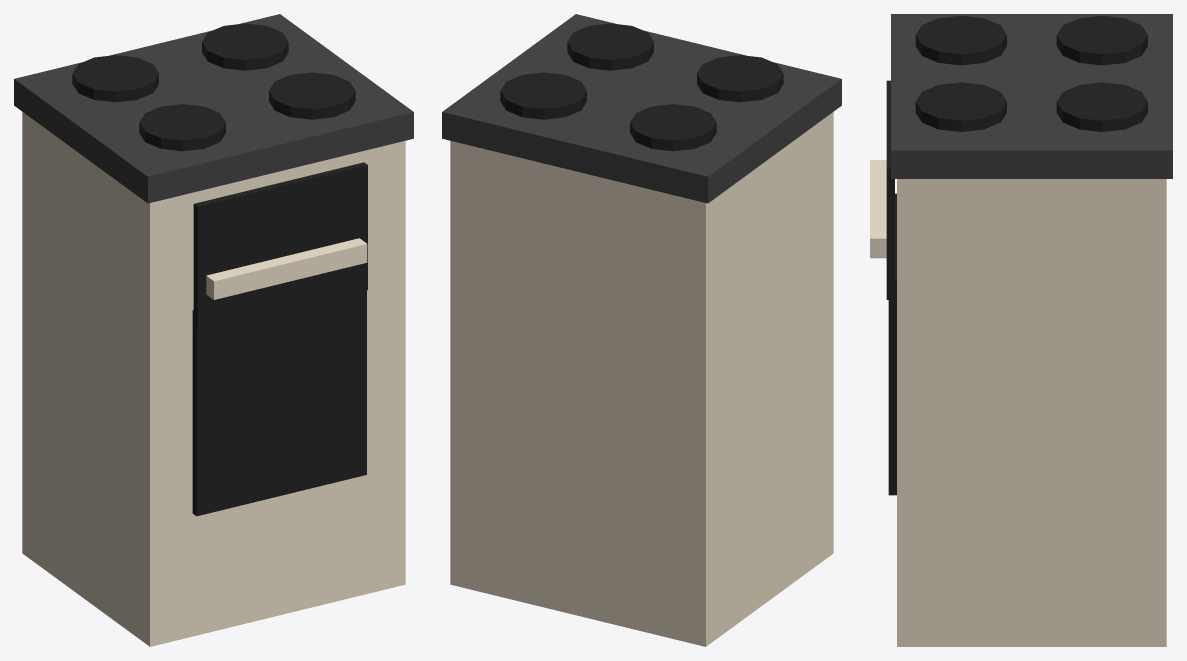
3 renders of one model, left to right at view 1: azimuth 30°, elevation 25°; view 2: azimuth 150°, elevation 25°; view 3: azimuth 270°, elevation 25°, orthographic. The views are drawn at different scales.
Visible parts, largest first — view 1: Stove, Hob, Oven window, Upper oven window, Door handle, Burner.002, Burner.003, Burner, Burner.001; view 2: Stove, Hob, Burner.003, Burner.002, Burner.001, Burner; view 3: Stove, Hob, Burner, Burner.001, Burner.002, Burner.003, Oven window, Door handle, Upper oven window.
Boxes of the visible parts, bbox=[...] form: Stove: bbox=[22, 112, 405, 646]; Hob: bbox=[14, 14, 413, 203]; Oven window: bbox=[192, 290, 366, 516]; Upper oven window: bbox=[193, 162, 367, 331]; Door handle: bbox=[206, 238, 367, 299]; Burner.002: bbox=[269, 72, 355, 119]; Burner.003: bbox=[202, 23, 288, 70]; Burner: bbox=[139, 104, 225, 151]; Burner.001: bbox=[72, 55, 158, 102]; Stove: bbox=[450, 112, 833, 646]; Hob: bbox=[442, 14, 841, 203]; Burner.003: bbox=[500, 72, 586, 119]; Burner.002: bbox=[567, 23, 653, 70]; Burner.001: bbox=[630, 104, 716, 151]; Burner: bbox=[697, 55, 783, 102]; Stove: bbox=[897, 179, 1166, 646]; Hob: bbox=[891, 14, 1172, 178]; Burner: bbox=[915, 15, 1006, 65]; Burner.001: bbox=[1056, 15, 1147, 65]; Burner.002: bbox=[915, 82, 1006, 131]; Burner.003: bbox=[1056, 82, 1147, 131]; Oven window: bbox=[888, 193, 896, 495]; Door handle: bbox=[870, 160, 886, 258]; Upper oven window: bbox=[886, 80, 894, 299].
Size of the model in its own units: 0.78 by 1.36 by 0.73.
1 material, 1 textured.
